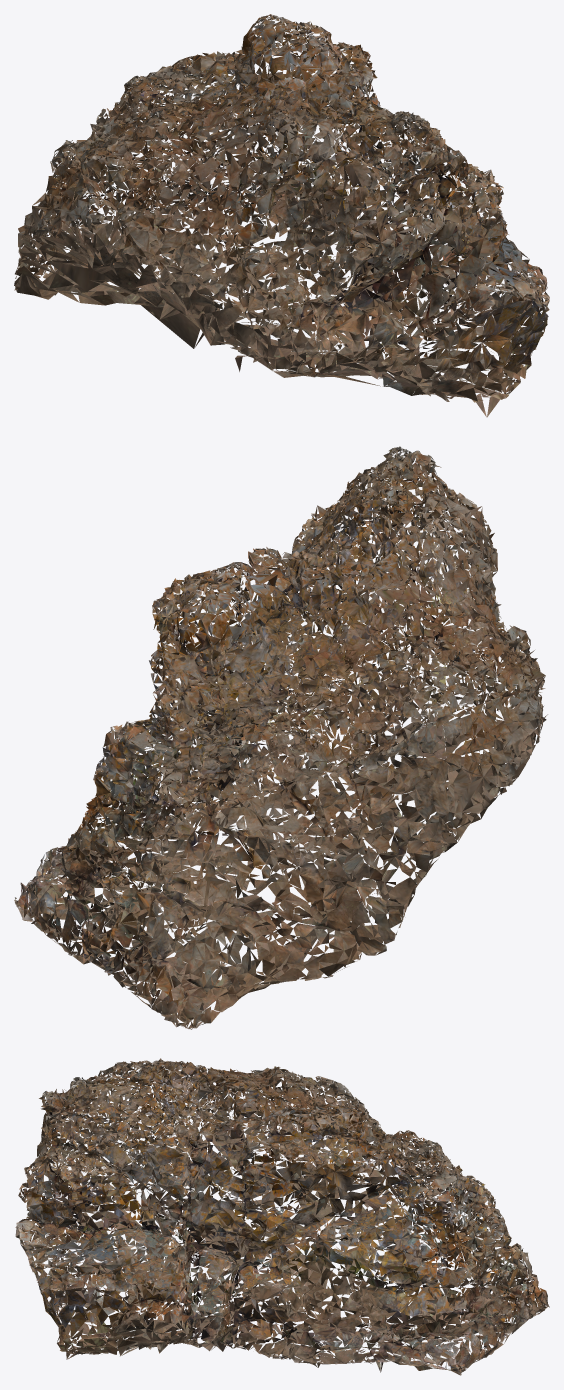
File: boulder_01_lod.gltf
3 views of the same model, one above another, from view 1: azimuth 30°, elevation 25°; view 2: azimuth 150°, elevation 25°; view 3: azimuth 270°, elevation 25° (orthographic). The views are drawn at different scales.
Parts seen in each view (by area): view 1: boulder_01; view 2: boulder_01; view 3: boulder_01.
Part boxes in pixels (box(x1,y1,x2,y2)): boulder_01: box(14, 14, 549, 417); boulder_01: box(14, 446, 547, 1029); boulder_01: box(15, 1058, 549, 1375).
Size of the model in its own units: 1.28 by 1.01 by 1.84.
Materials: 1 (1 with a texture image).
